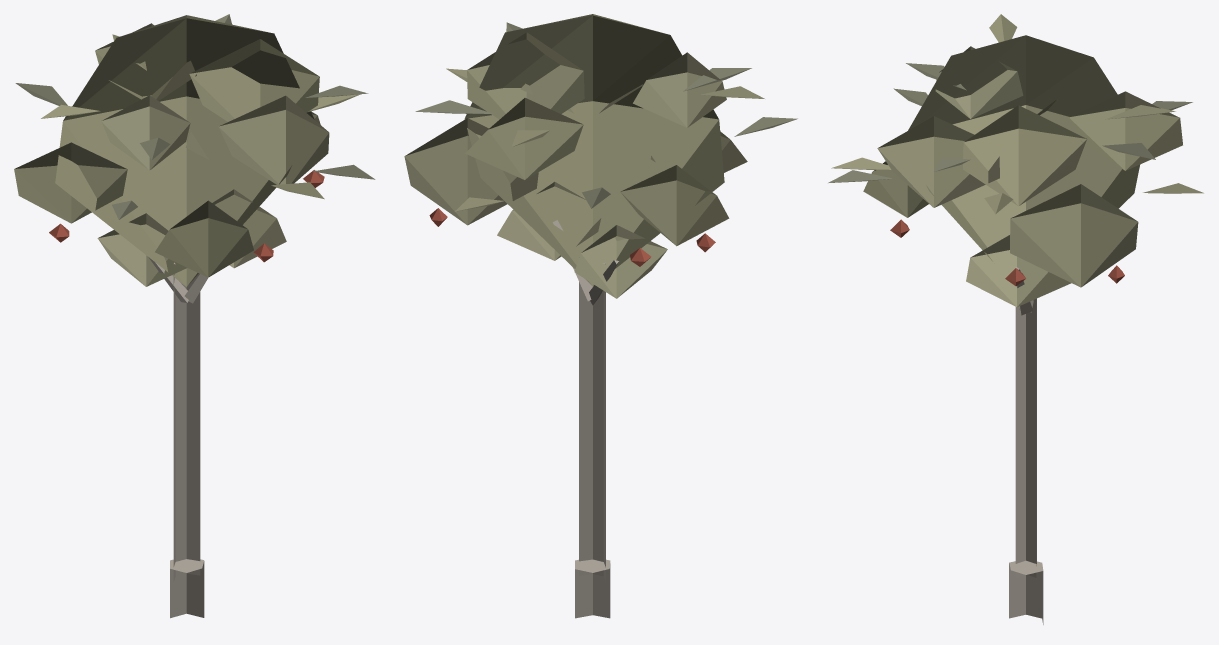
File: shu.baigan@fruiting__winter.glb
3 renders of one model, left to right at view 1: azimuth 30°, elevation 25°; view 2: azimuth 150°, elevation 25°; view 3: azimuth 270°, elevation 25°, orthographic. The views are drawn at different scales.
Parts seen in each view (by area): view 1: shu.baigan@fruiting__winter; view 2: shu.baigan@fruiting__winter; view 3: shu.baigan@fruiting__winter.
Part boxes in pixels (bbox=[...]): shu.baigan@fruiting__winter: bbox=[14, 14, 375, 618]; shu.baigan@fruiting__winter: bbox=[404, 14, 797, 618]; shu.baigan@fruiting__winter: bbox=[828, 14, 1203, 624].
Size of the model in its own units: 8.39 by 15.12 by 8.8.
